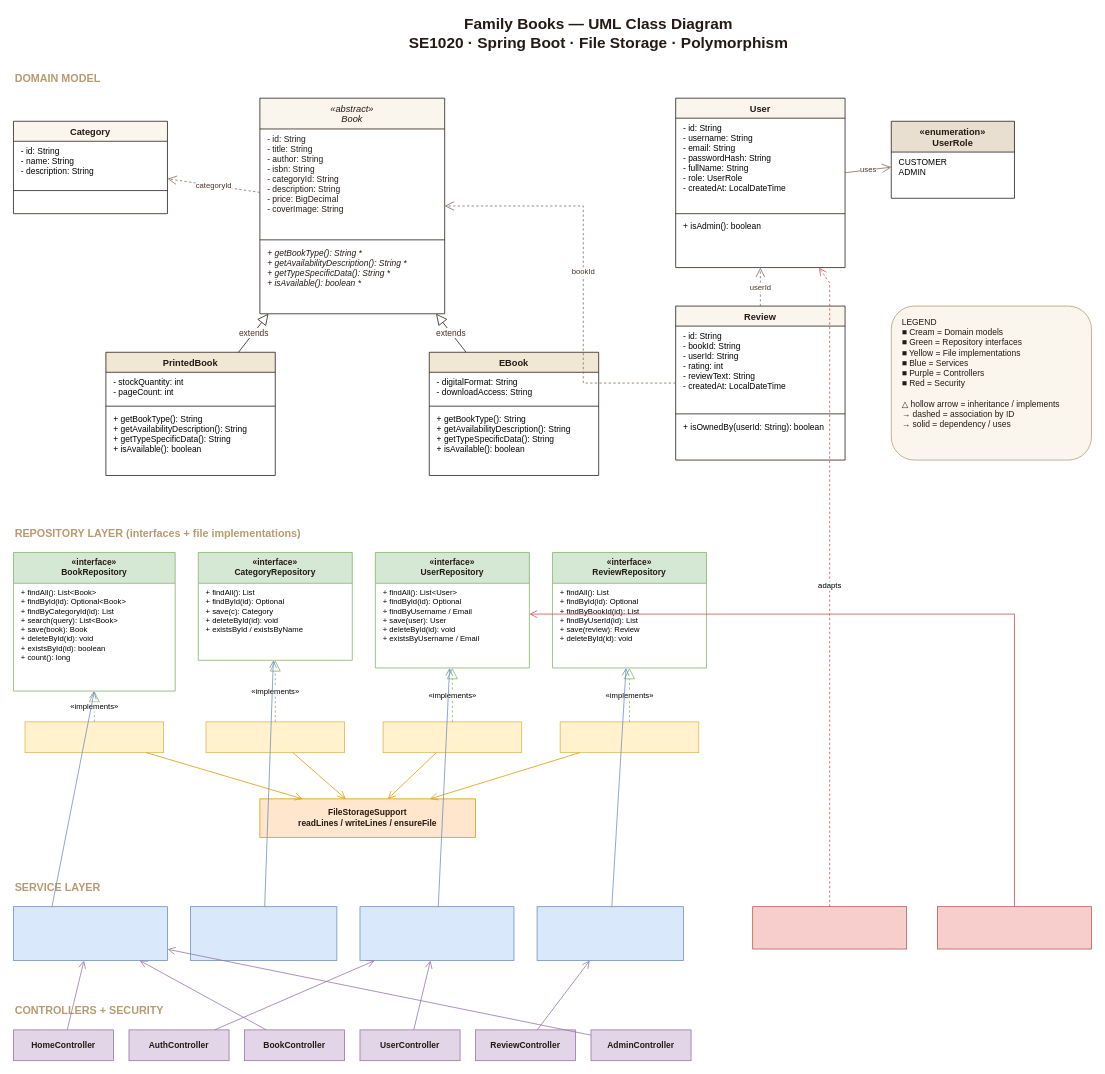
Image size: 1105x1074. Some labels were removed from this diagram. The shapes that lost their labels are listed below. From the top down, each one's centre as x and y in pixels, then its label:
At [94,737]: "FileBookRepository".
At [275,737]: "FileCategoryRepository".
At [452,737]: "FileUserRepository".
At [629,737]: "FileReviewRepository".
At [90,933]: "BookService — BookRepository — CategoryRepository — ReviewRepository".
At [263,933]: "CategoryService — CategoryRepository — BookRepository".
At [436,933]: "UserService — UserRepository — ReviewRepository — PasswordEncoder".
At [609,933]: "ReviewService — ReviewRepository — BookRepository".
At [829,927]: "CustomUserDetails «adapts» User → UserDetails".
At [1014,927]: "CustomUserDetailsService loadUserByUsername()".
